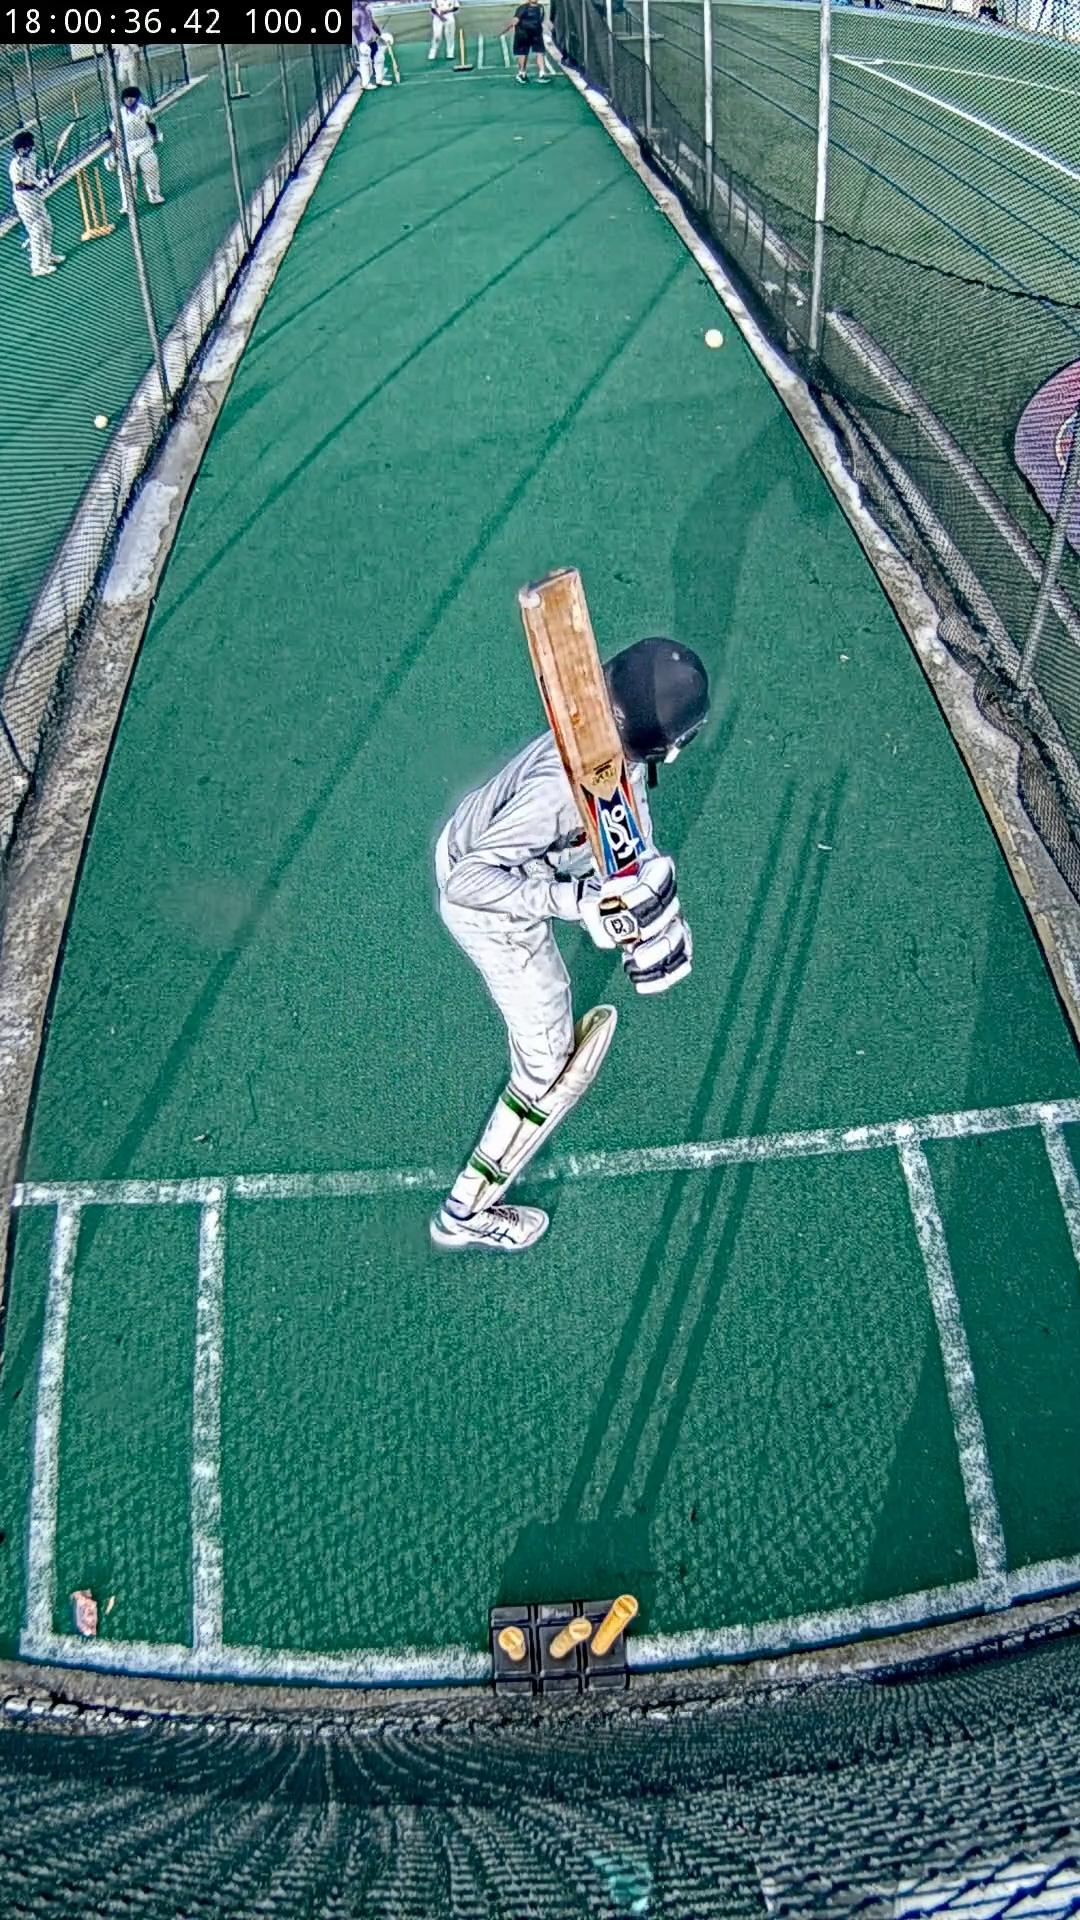ball: (705, 330, 724, 348)
bat: (517, 570, 645, 877)
gloves: (551, 855, 679, 948)
helmet: (604, 637, 708, 761)
pads: (480, 1005, 618, 1205)
stumps: (492, 1594, 637, 1695)
